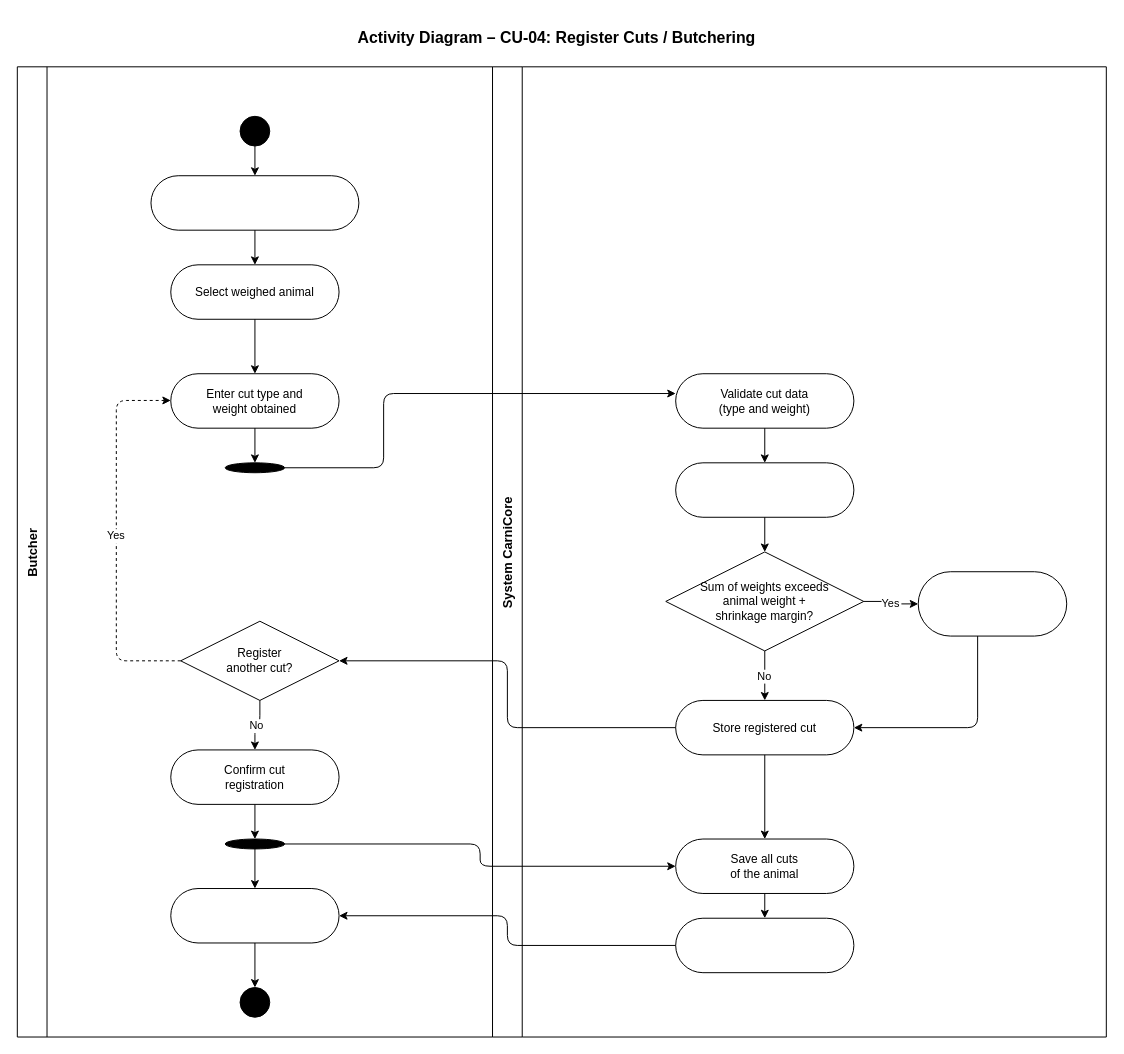
Some shapes in this 1124 by 1054 pixel diagram are drawn without their labels. Each missing label, with the centre of its shape:
Calculate accumulated sum of cut weights: pixel 764 489
Continue with Classification (CU-05): pixel 254 915
Cuts available for Classification (CU-05): pixel 764 945
Select option "Register Cuts / Butchering": pixel 254 202
Show error message: "Sum of weights exceeds the allowed weight.": pixel 992 603
